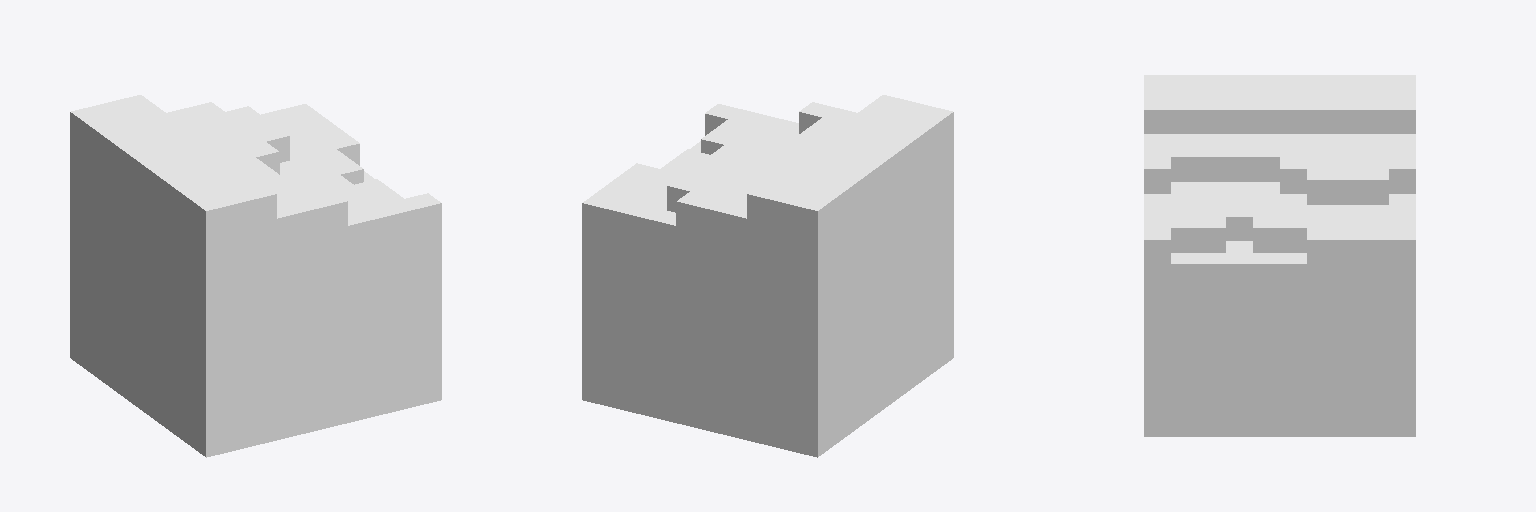
File: Lehm_Rand-01.obj
3 renders of one model, left to right at view 1: azimuth 30°, elevation 25°; view 2: azimuth 150°, elevation 25°; view 3: azimuth 270°, elevation 25°, orthographic.
Visible parts, largest first — view 1: object 1; view 2: object 1; view 3: object 1.
Boxes of the visible parts, x1,y1,x2,y2 form: object 1: [70, 95, 441, 457]; object 1: [582, 95, 953, 457]; object 1: [1144, 75, 1415, 436].
Bounding box in the file's own units: 1 × 1 × 1.